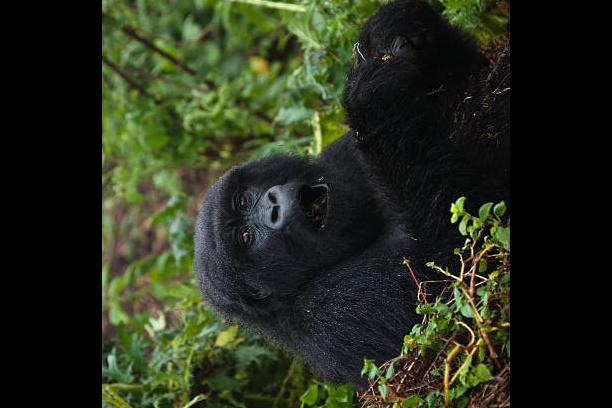goriile_montagne: (155, 0, 497, 382)
